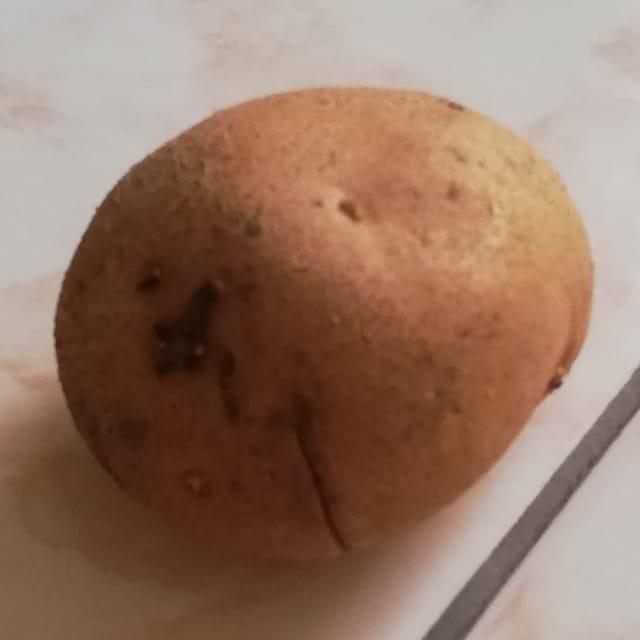potato: (49, 49, 602, 583)
